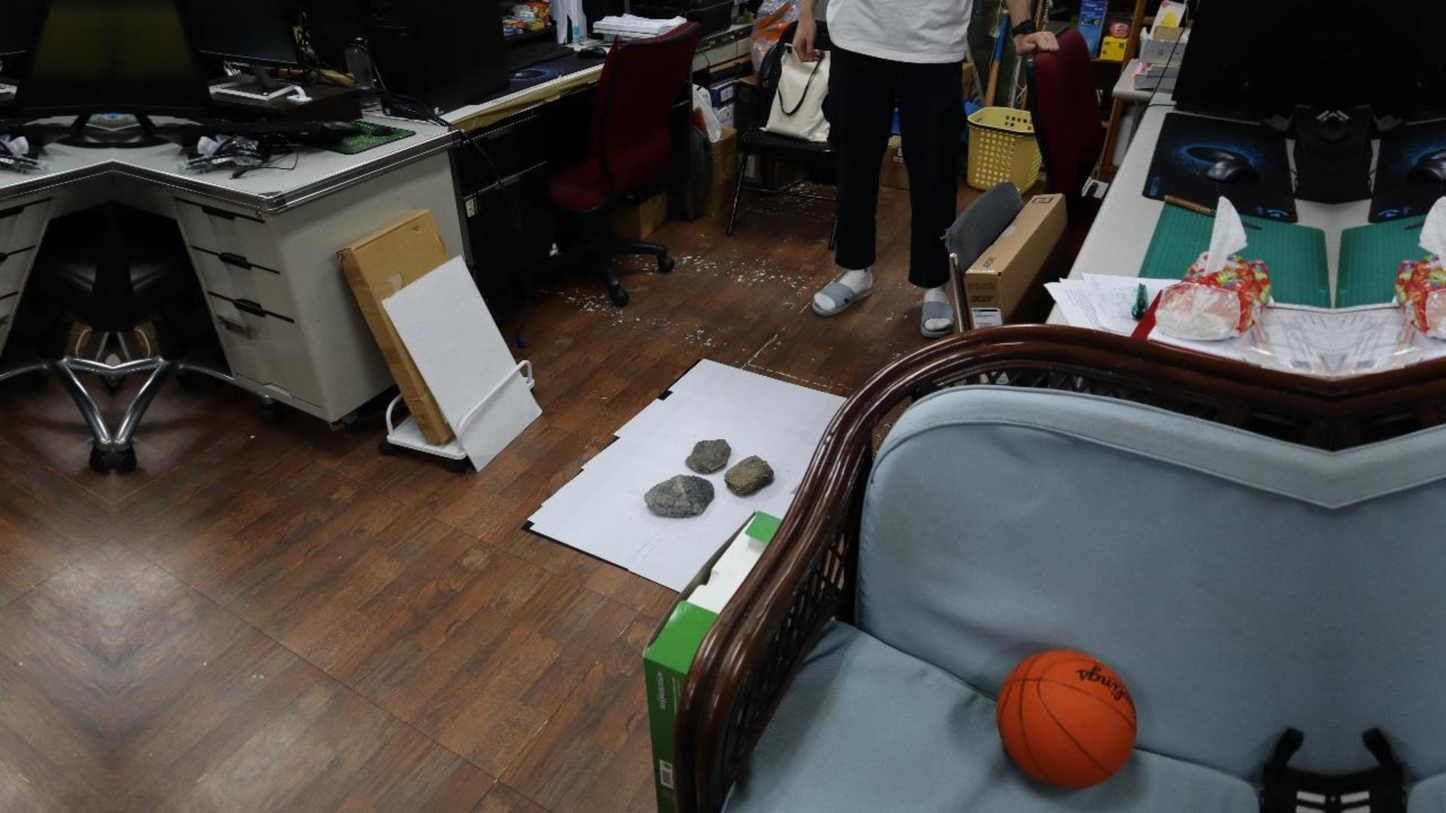rock: (644, 474, 713, 517), (724, 455, 774, 496), (686, 439, 731, 473)
